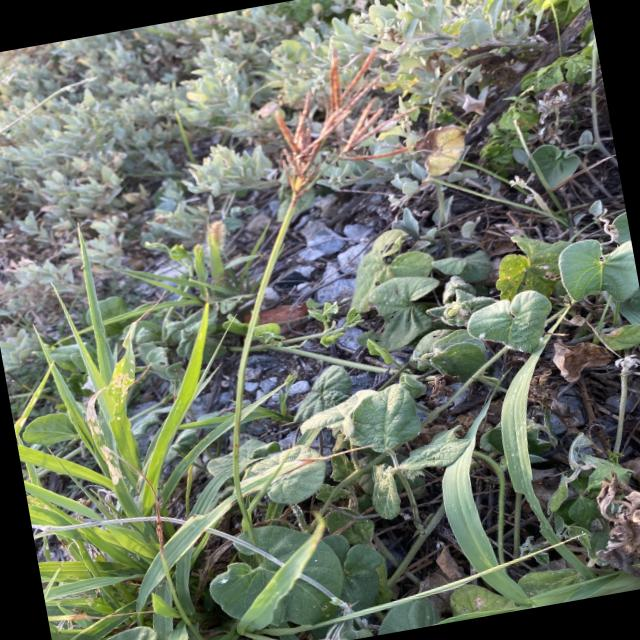cyperus: (247, 26, 439, 210)
